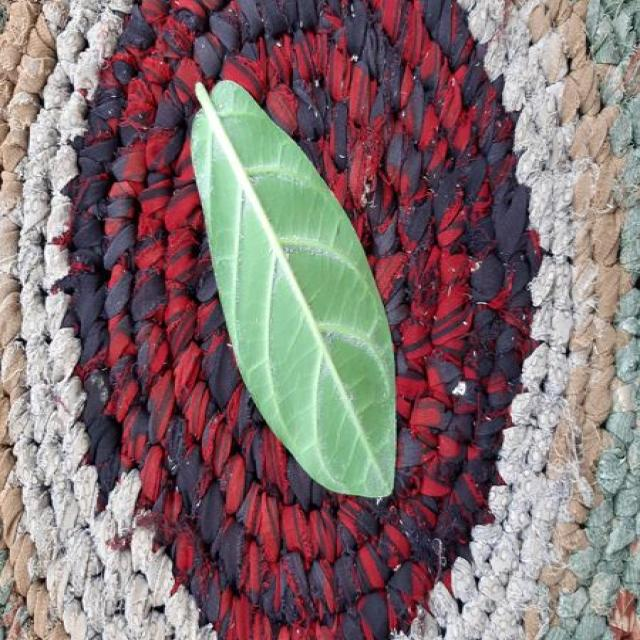ekka: (192, 81, 395, 497)
